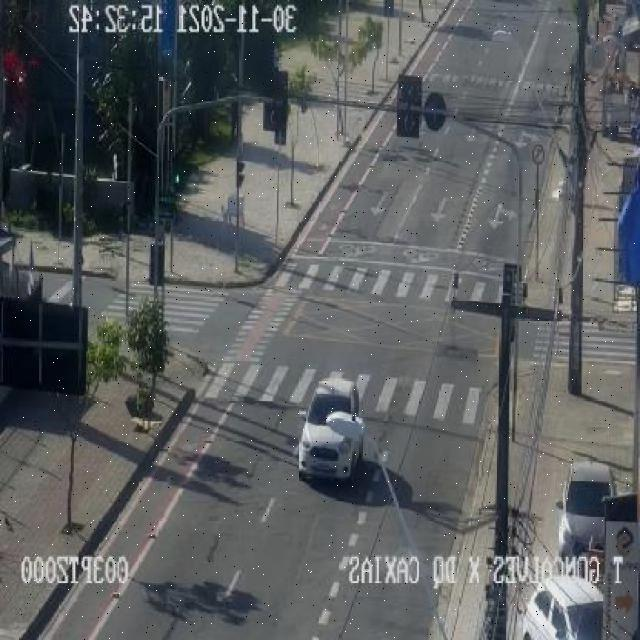Car: (288, 374, 374, 501), (558, 458, 616, 566), (517, 577, 607, 640)
